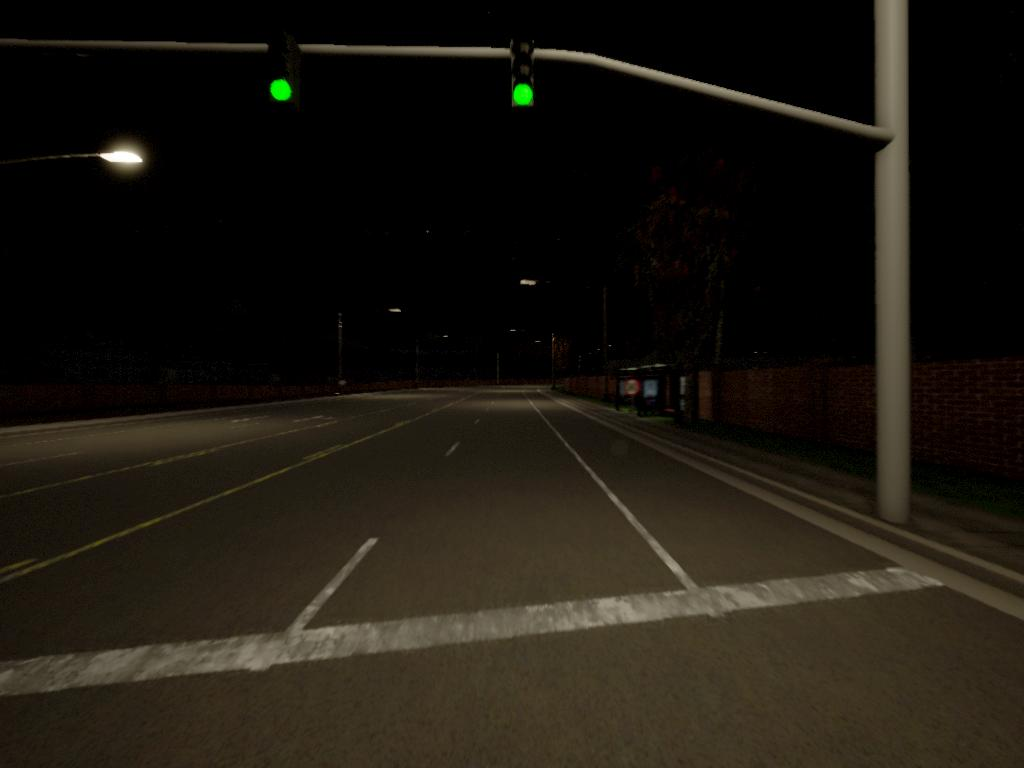traffic_light: (263, 41, 302, 121), (509, 39, 534, 109)
